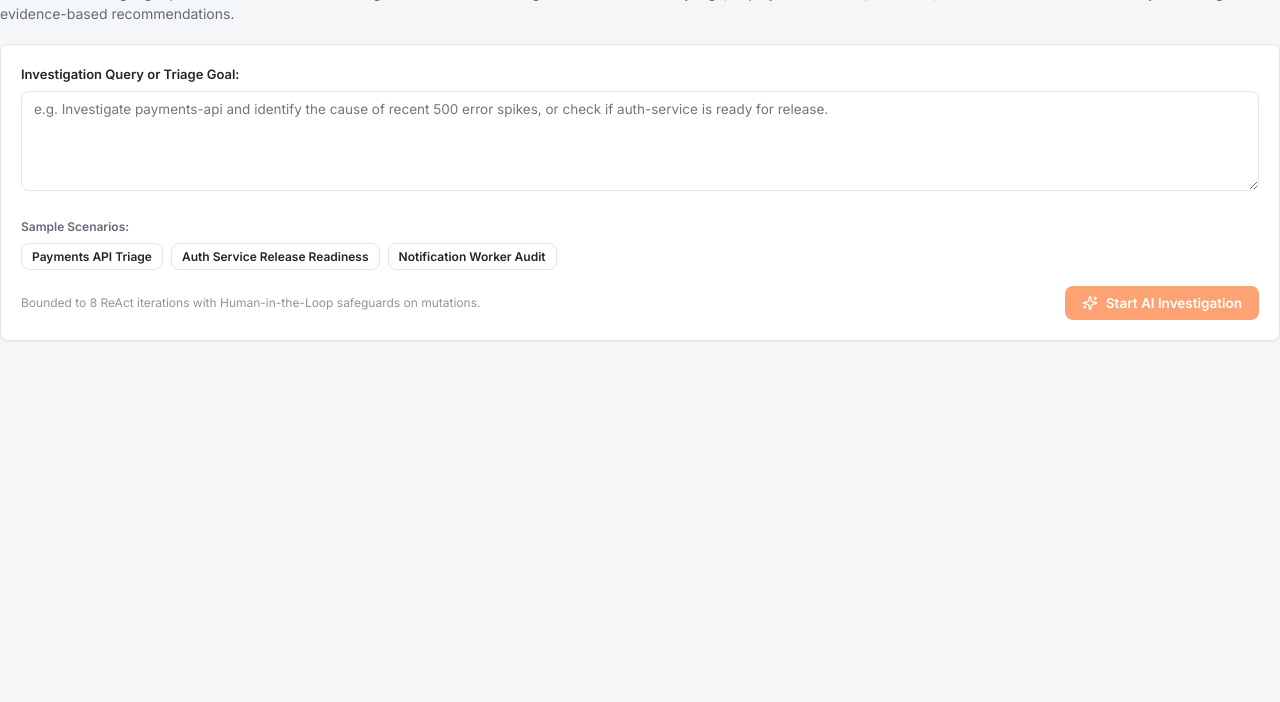
Scenario: InvestigationsPage › fills query and submits investigation, displaying synthesized results and tool timeline
The image size is (1280, 702).
Replace the text in the text box with test id "investigation-input" with "Investigate payments-api high error rates": coordinates (640, 140) [21,90,1259,190]
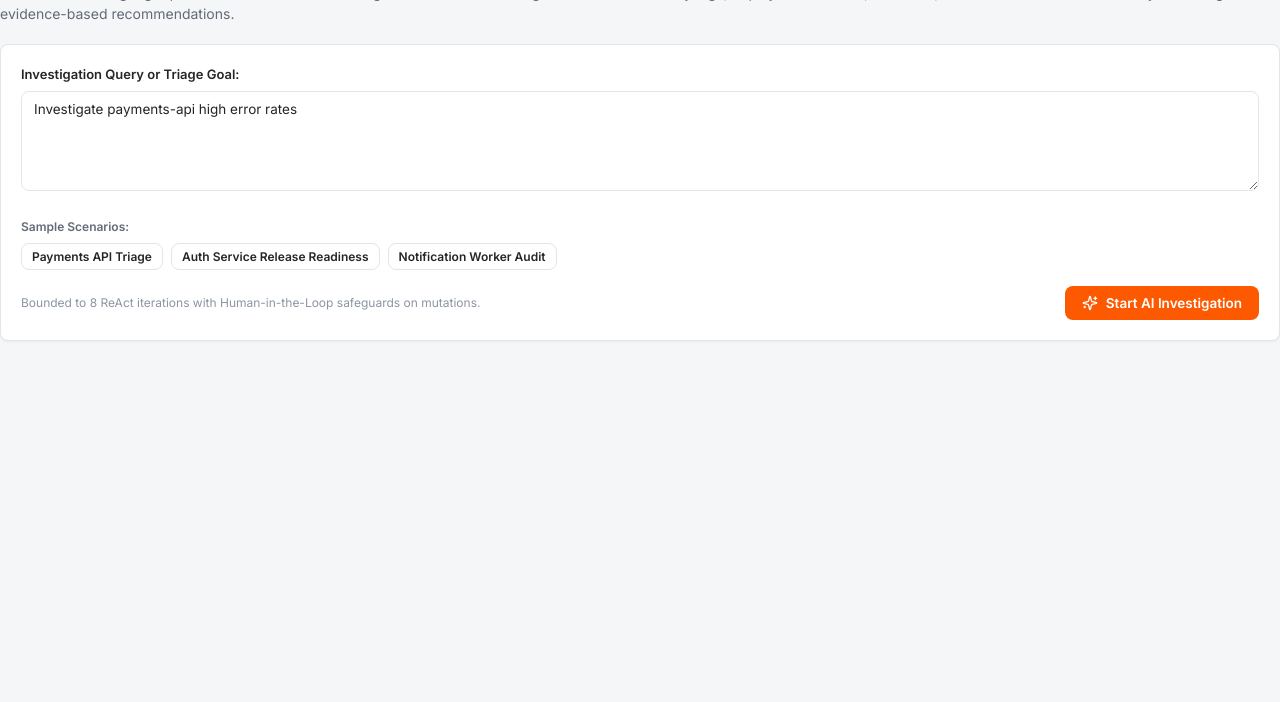
Check: the button with test id "start-investigation-btn" is enabled
Click the button with test id "start-investigation-btn": coordinates (1162, 302) [1065,286,1259,320]
(page scrolled)
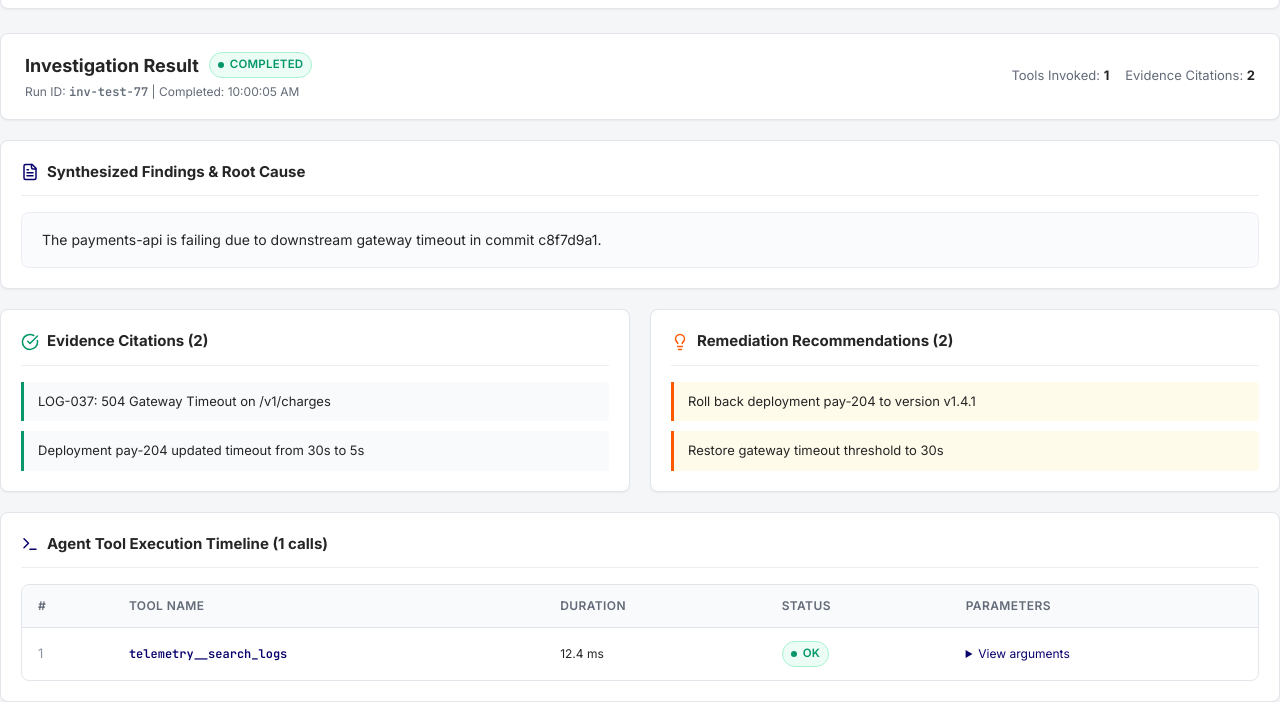
Check: the element with test id "investigation-result" is shown
Check: the element with test id "findings-section" shows "downstream gateway timeout", box [42,231,602,248]
Check: the element with test id "evidence-section" shows "LOG-037", box [38,393,331,409]
